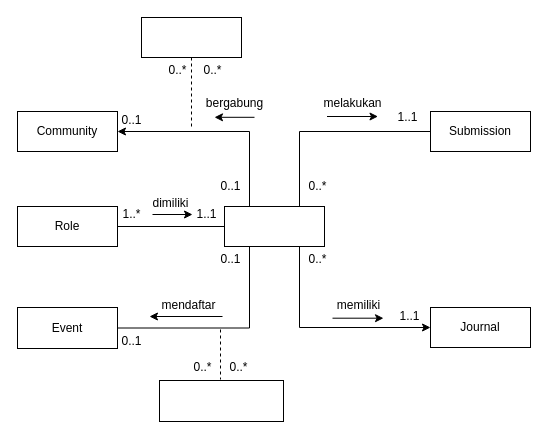
Some shapes in this 548 by 439 pixel diagram are drawn without their labels. Here are the shapes that lost their labels. From the top down, the centre of each, then its label:
point 191,37: User_Community
point 274,226: User
point 221,401: Event_Registration
